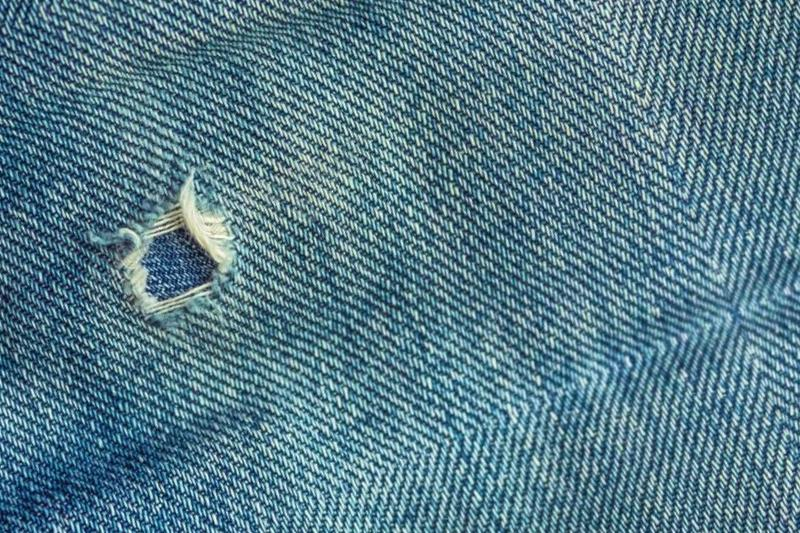hole: (115, 204, 246, 321)
